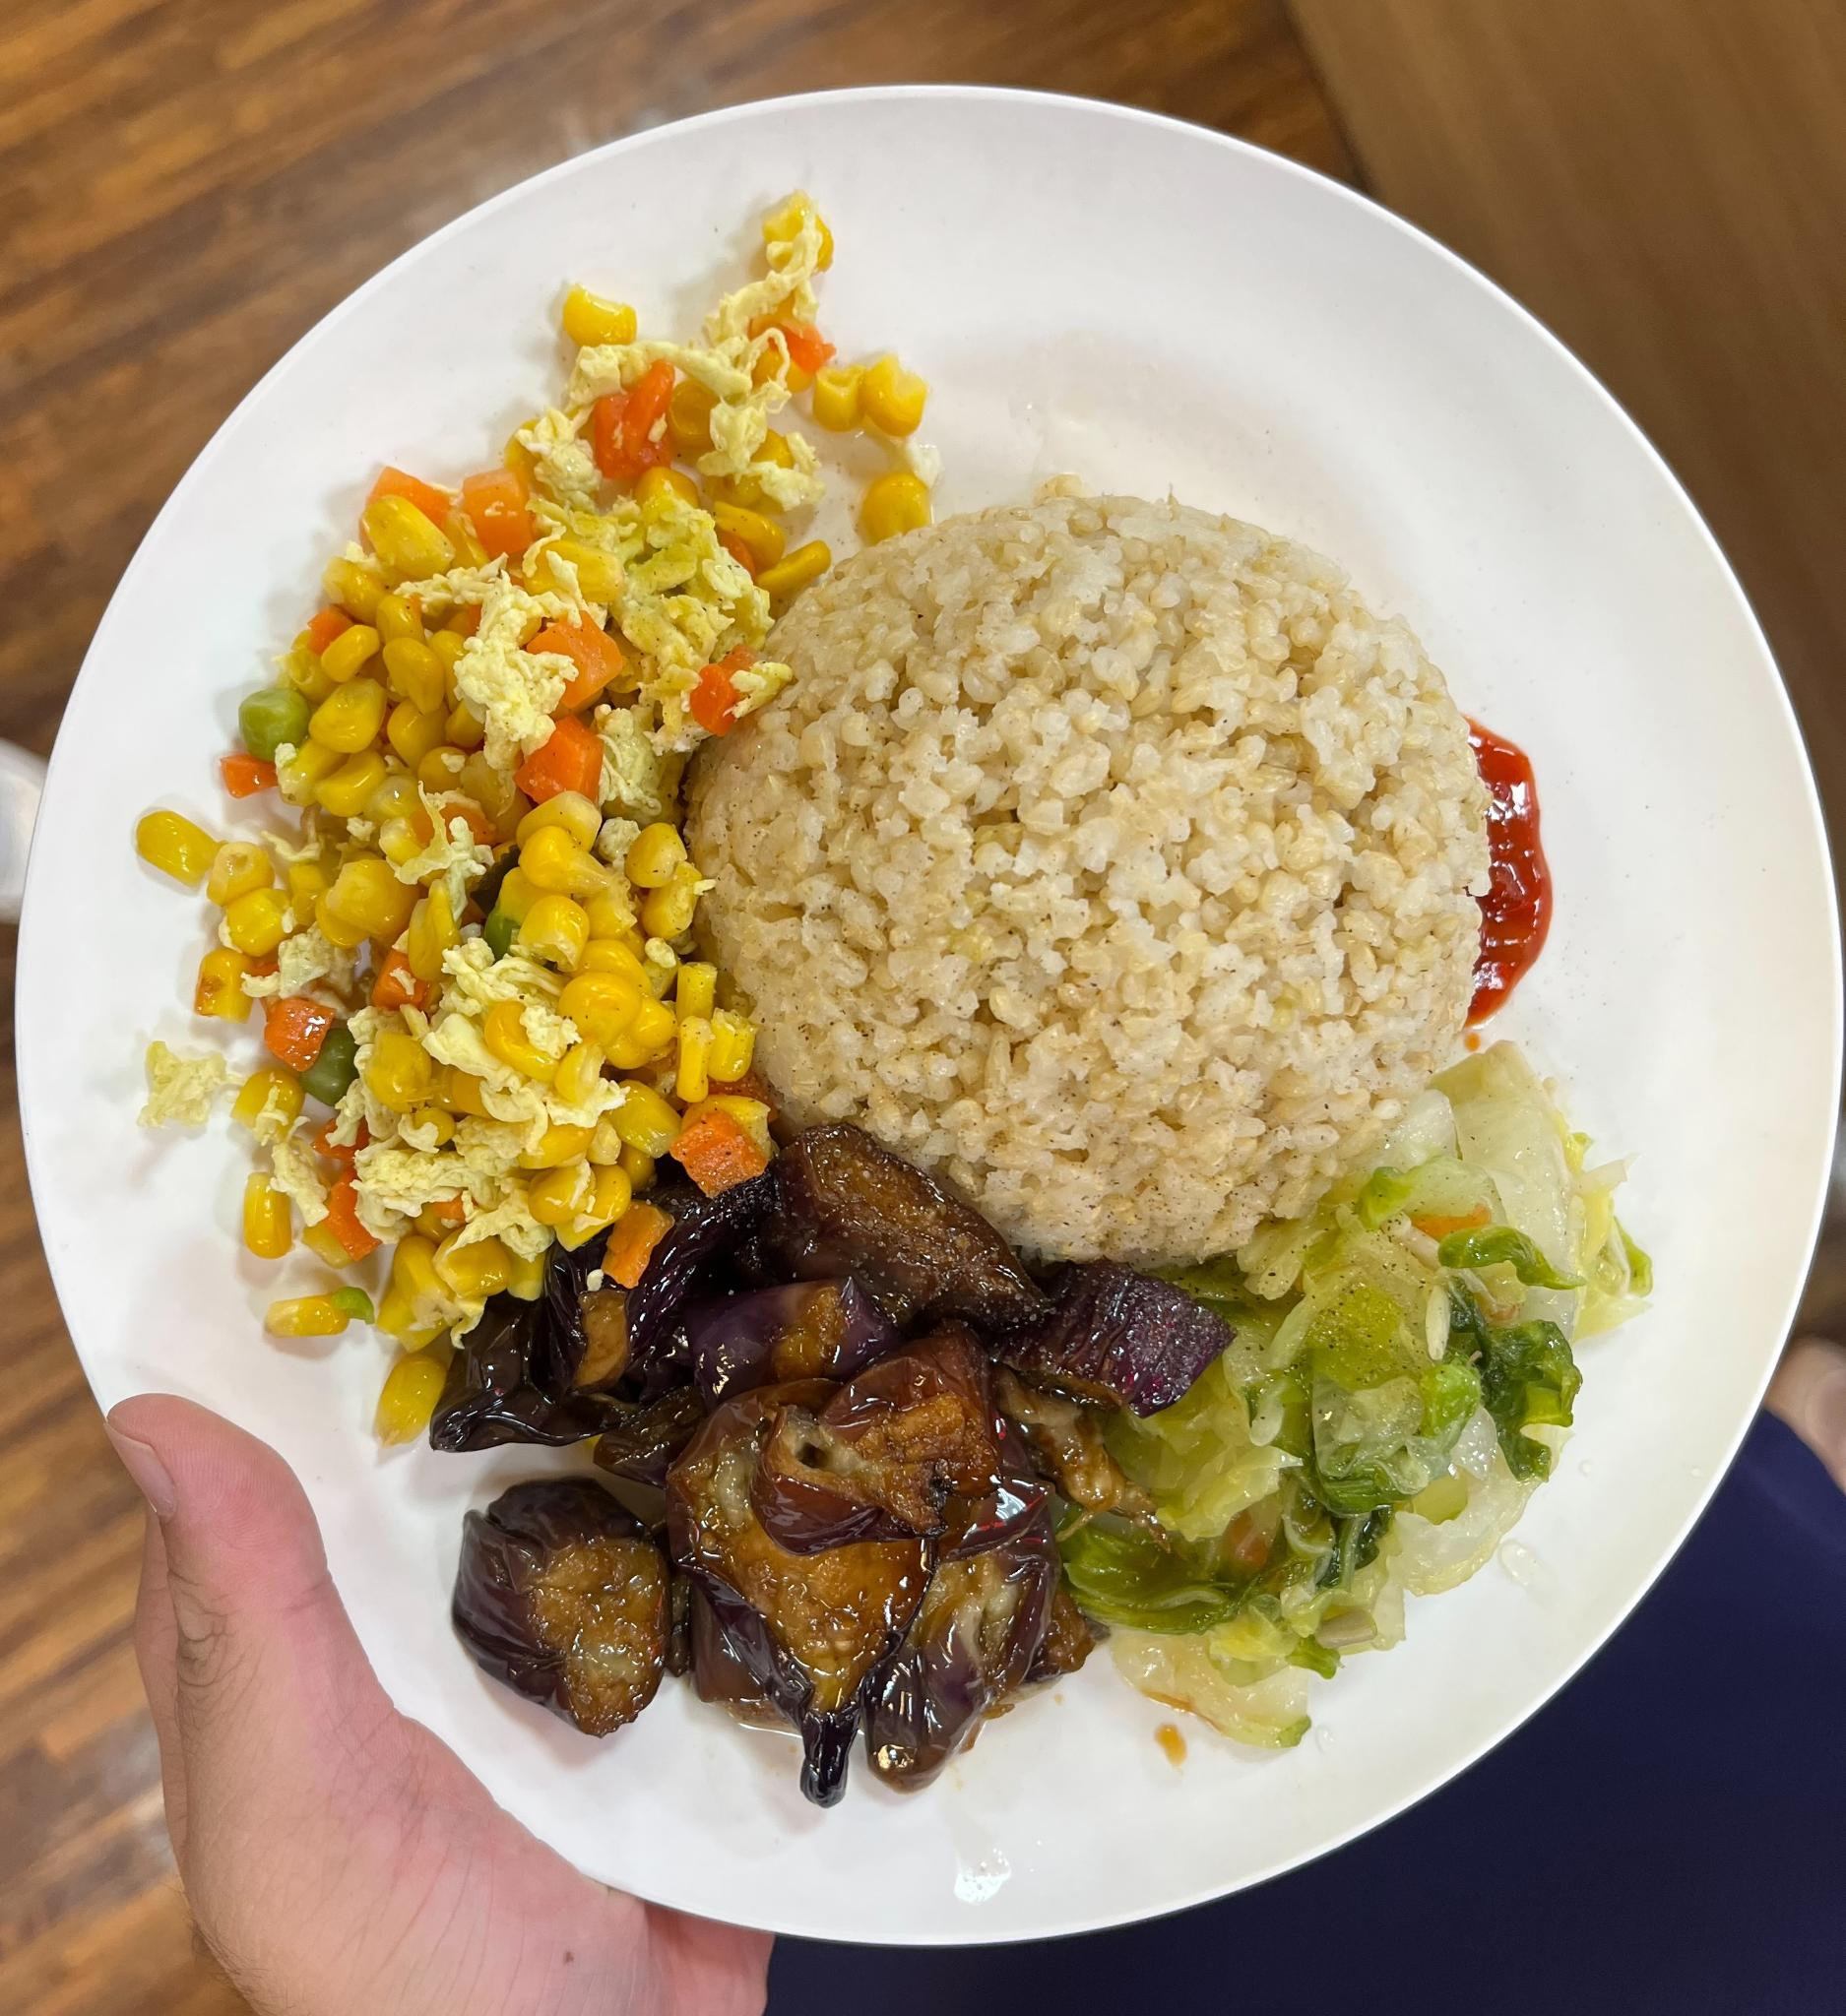big fried chicken leg: (39, 46, 1846, 1948)
box: (722, 486, 1479, 1256)
braised fish fillet: (174, 207, 905, 1340), (444, 1124, 1221, 1758), (1071, 1134, 1639, 1739)
